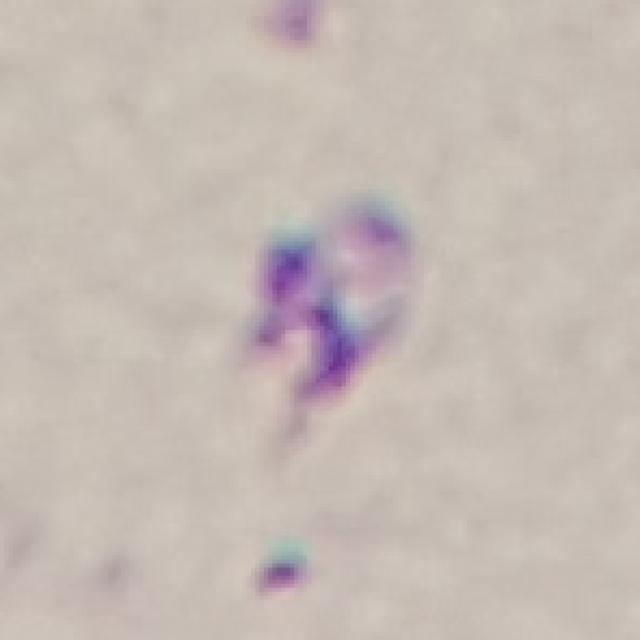non-sperm: (237, 206, 431, 453)
